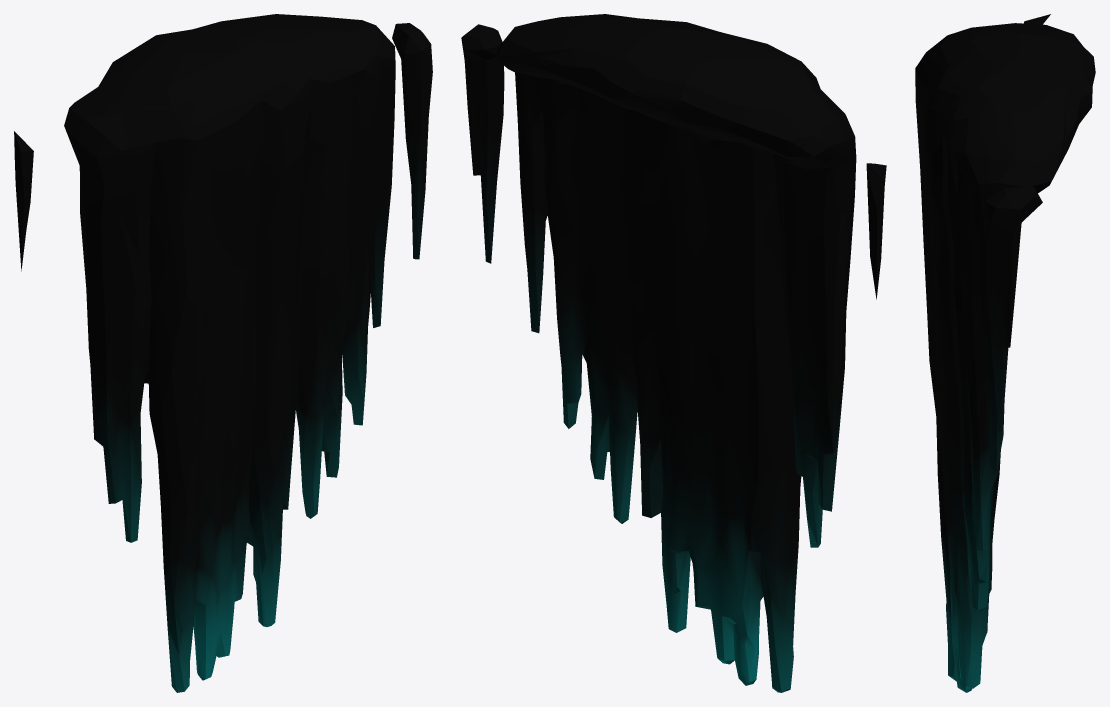
File: Stalactite_4.fbx
The picture shows the model from 3 angles, left to right: view 1: azimuth 30°, elevation 25°; view 2: azimuth 150°, elevation 25°; view 3: azimuth 270°, elevation 25°; orthographic projection. The views are drawn at different scales.
Visible parts, largest first — view 1: Stalactite_4_LOD0; view 2: Stalactite_4_LOD0; view 3: Stalactite_4_LOD0.
Part boxes in pixels (<box>): Stalactite_4_LOD0: <box>14,14,432,692</box>; Stalactite_4_LOD0: <box>461,14,886,692</box>; Stalactite_4_LOD0: <box>915,14,1095,692</box>.
Size of what is drawn, in the model's own units: 103 by 150 by 36.91.
